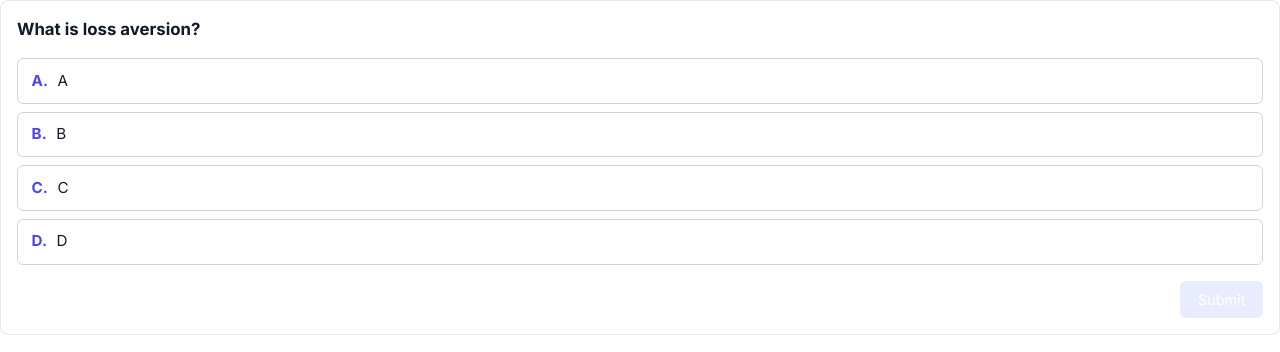
QuestionTurn › Submit button disabled until input meets shape rules — mcq (FR-48)
Step 1. Click the button with test id "mcq-option" showing "B. B" → [39, 134], box left=17, top=112, right=1263, bottom=157
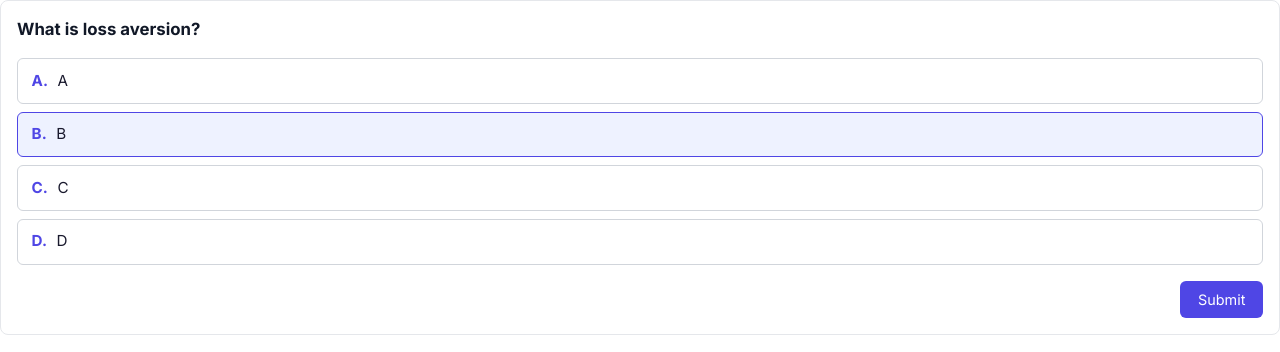
Check: the button with test id "submit" is enabled, box left=1180, top=280, right=1263, bottom=318
